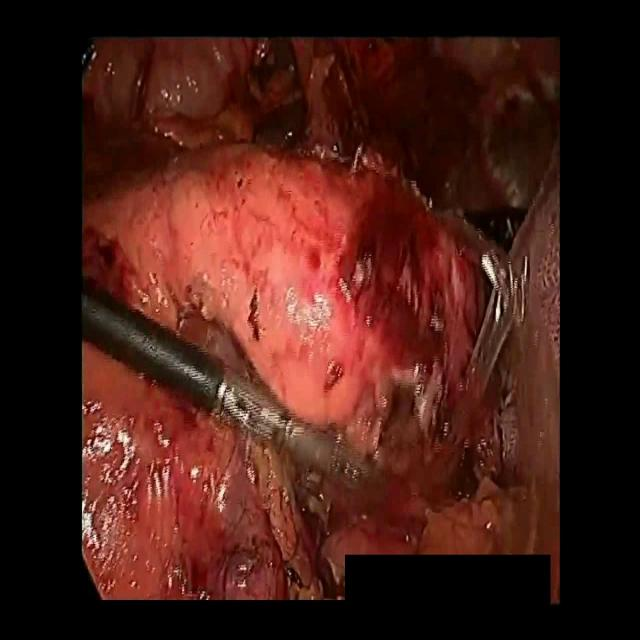surgical-area: (81, 36, 562, 603)
surgical-tool: (81, 276, 431, 539)
